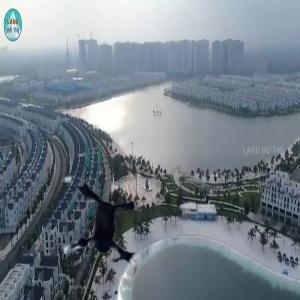drone: (27, 162, 163, 298)
